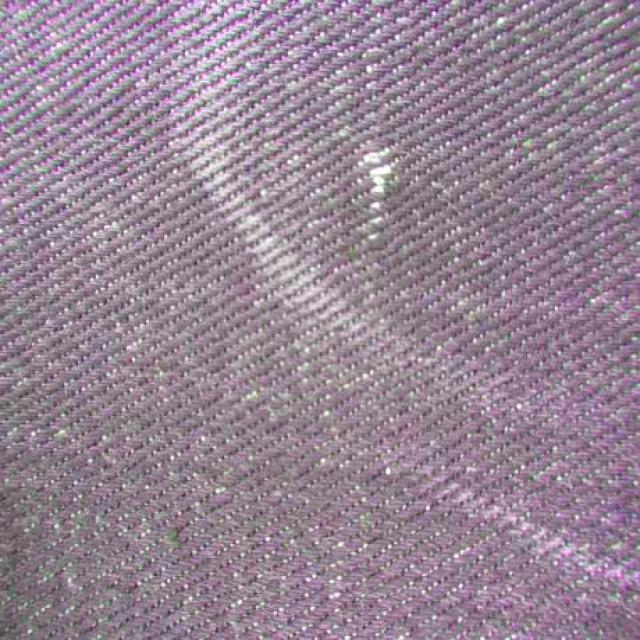Thread_other: (310, 100, 448, 270)
